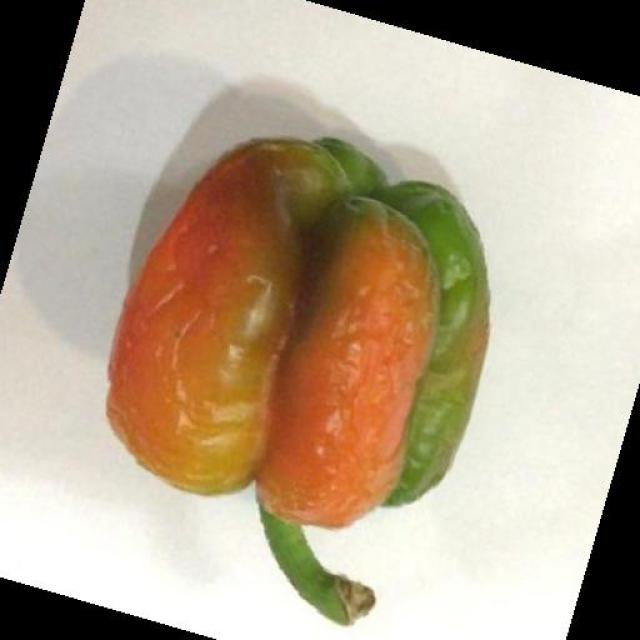Stale_Capsicum: (125, 115, 453, 578)
